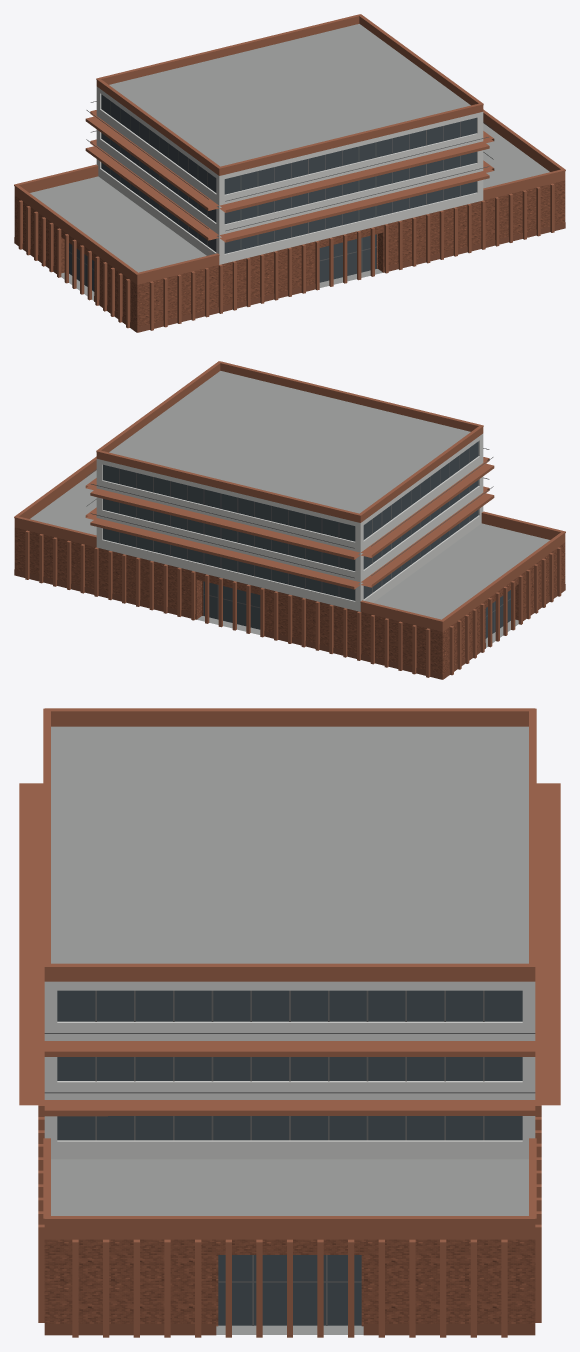
3 renders of one model, top to bottom at view 1: azimuth 30°, elevation 25°; view 2: azimuth 150°, elevation 25°; view 3: azimuth 270°, elevation 25°, orthographic. The views are drawn at different scales.
Parts seen in each view (by area): view 1: greenHome__roof, greenHome__trim, greenHome__glass, greenHome__wall2, greenHome__wall, greenHome__parapet, greenHome__frame, greenHome__base; view 2: greenHome__roof, greenHome__trim, greenHome__glass, greenHome__wall2, greenHome__wall, greenHome__parapet, greenHome__frame, greenHome__base; view 3: greenHome__roof, greenHome__trim, greenHome__glass, greenHome__wall2, greenHome__wall, greenHome__parapet, greenHome__frame, greenHome__base.
Part boxes in pixels (x1,y1,x2,y2): greenHome__roof: [30, 24, 549, 300]; greenHome__trim: [14, 14, 565, 330]; greenHome__glass: [69, 94, 476, 291]; greenHome__wall2: [96, 86, 483, 264]; greenHome__wall: [14, 180, 565, 332]; greenHome__parapet: [14, 16, 565, 284]; greenHome__frame: [69, 101, 493, 285]; greenHome__base: [14, 222, 565, 332]; greenHome__roof: [30, 371, 549, 647]; greenHome__trim: [14, 361, 565, 677]; greenHome__glass: [103, 441, 510, 638]; greenHome__wall2: [96, 433, 483, 611]; greenHome__wall: [14, 527, 565, 679]; greenHome__parapet: [14, 363, 565, 631]; greenHome__frame: [86, 448, 510, 632]; greenHome__base: [14, 569, 565, 679]; greenHome__roof: [51, 726, 528, 1334]; greenHome__trim: [19, 708, 560, 1337]; greenHome__glass: [57, 990, 522, 1325]; greenHome__wall2: [44, 981, 535, 1159]; greenHome__wall: [44, 1239, 535, 1326]; greenHome__parapet: [44, 711, 535, 1239]; greenHome__frame: [44, 990, 535, 1325]; greenHome__base: [44, 1324, 535, 1335].
Bounding box in the file's own units: 47.51 × 15.1 × 25.66.
Materials: 9 (1 with a texture image).
